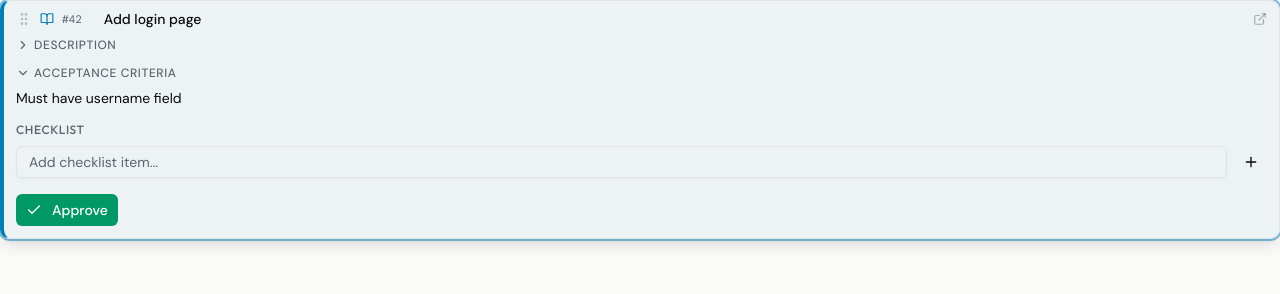
Test: DemoItem › collapses section content when toggled closed
The image size is (1280, 294).
Click the button "Description" at (66, 45), box [16,37,116,53]
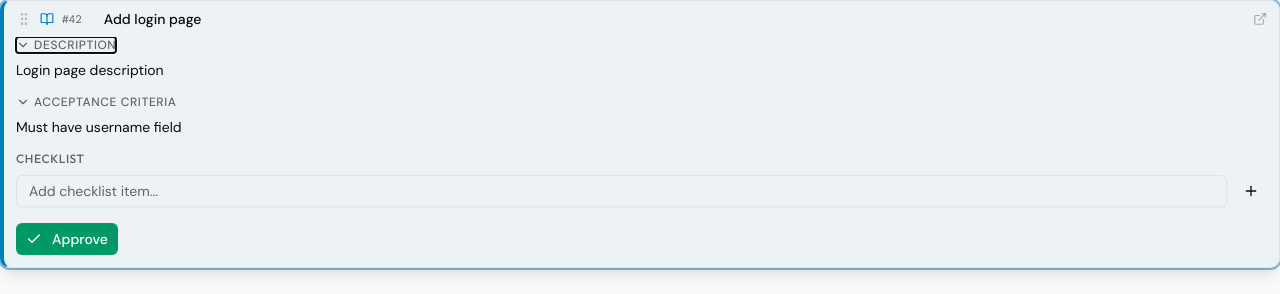
Result: the button "Description" is expanded
Click the button "Description" at (66, 45), box [16,37,116,53]
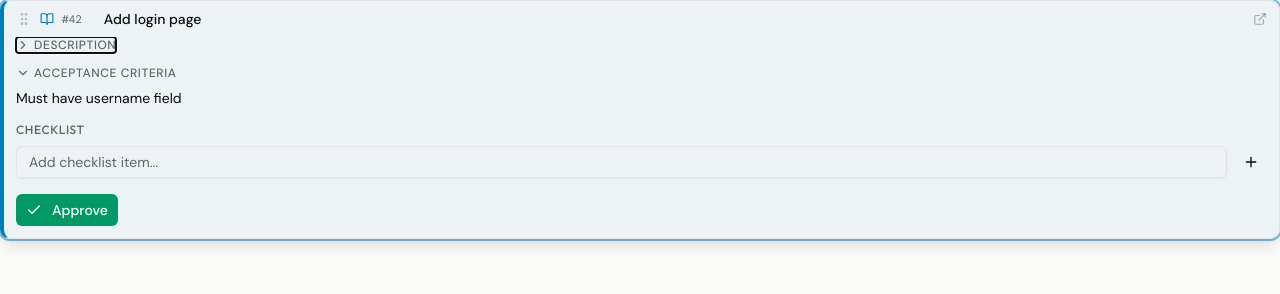
Result: the button "Description" is collapsed at [16,37,116,53]
